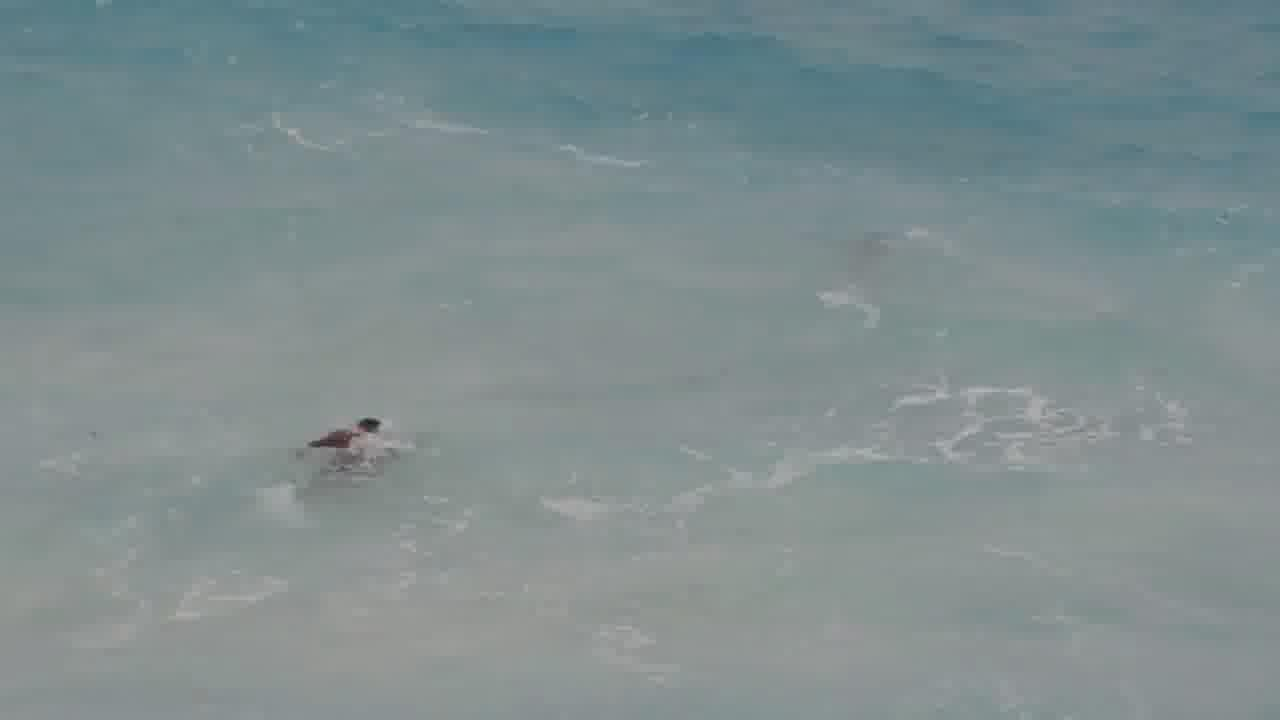swimmer: (327, 416, 396, 467)
